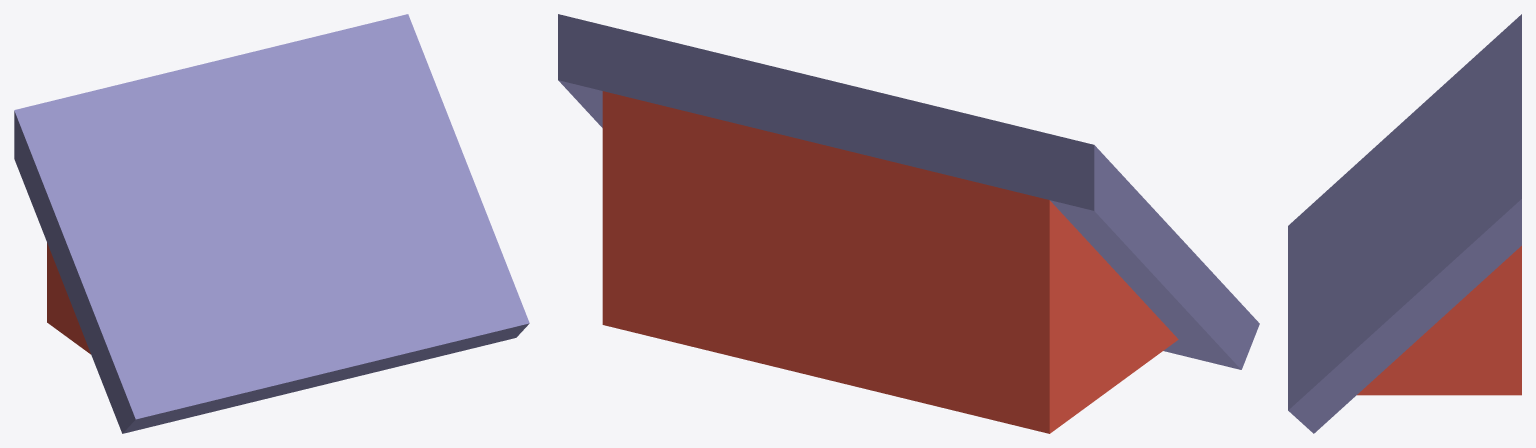
File: roof4.obj
3 views of the same model, side by side, from view 1: azimuth 30°, elevation 25°; view 2: azimuth 150°, elevation 25°; view 3: azimuth 270°, elevation 25° (orthographic). The views are drawn at different scales.
Visible parts, largest first — view 1: mergedBlocks; view 2: mergedBlocks; view 3: mergedBlocks.
Part boxes in pixels (box(x1,y1,x2,y2)): mergedBlocks: box(14, 14, 529, 433); mergedBlocks: box(558, 14, 1259, 433); mergedBlocks: box(1288, 14, 1521, 433).
Bounding box in the file's own units: 1.2 × 0.7121 × 0.6414.
